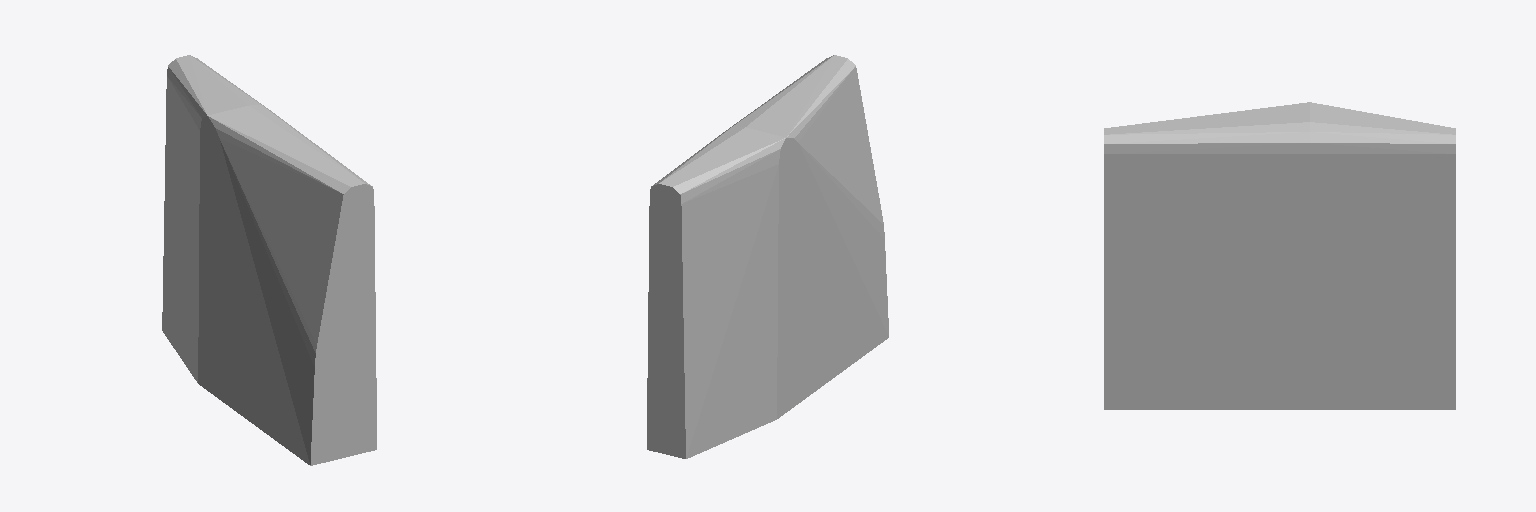
The model's file is ShipScene_collision_4.obj.
3 views of the same model, side by side, from view 1: azimuth 30°, elevation 25°; view 2: azimuth 150°, elevation 25°; view 3: azimuth 270°, elevation 25° (orthographic).
Bounding box in the file's own units: 24.85 × 97.76 × 113.